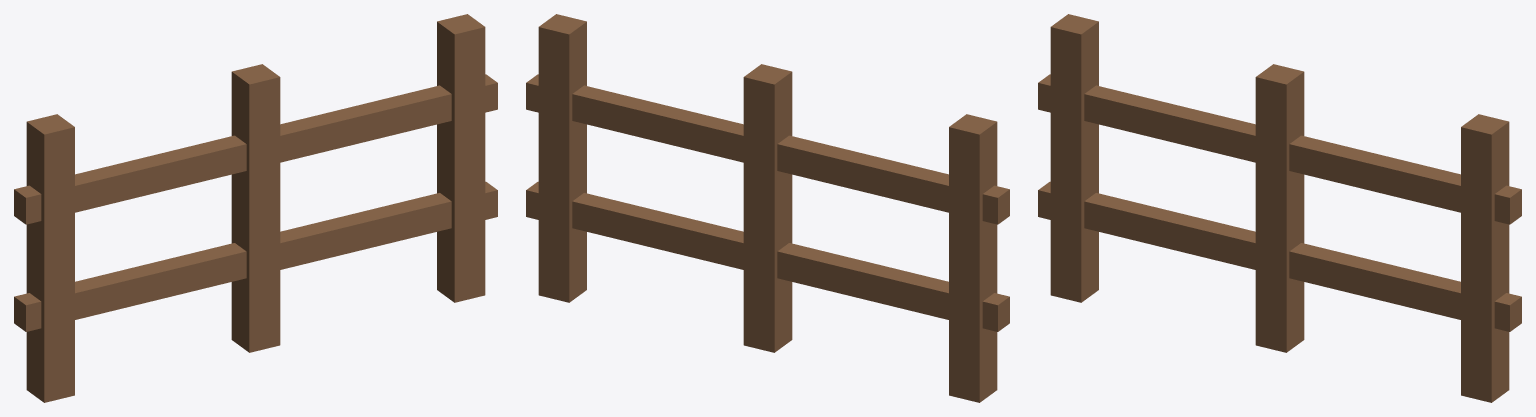
The model's file is fence.glb.
3 renders of one model, left to right at view 1: azimuth 30°, elevation 25°; view 2: azimuth 150°, elevation 25°; view 3: azimuth 330°, elevation 25°, orthographic.
Parts seen in each view (by area): view 1: fence; view 2: fence; view 3: fence.
Boxes of the visible parts, box(x1,y1,x2,y2) form: fence: box(14, 14, 497, 402); fence: box(526, 14, 1009, 402); fence: box(1038, 14, 1521, 402).
Size of the model in its own units: 1.84 by 1 by 0.12.
